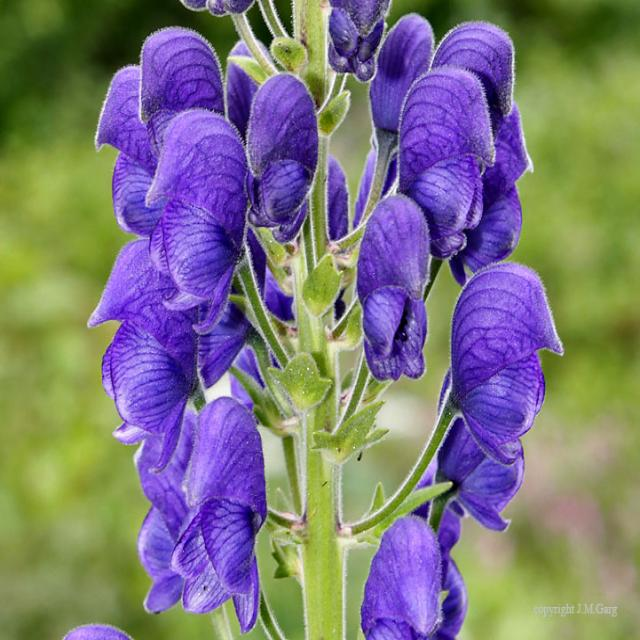Meetha: (97, 146, 548, 574), (116, 0, 503, 386), (114, 39, 340, 640), (342, 0, 546, 597)
